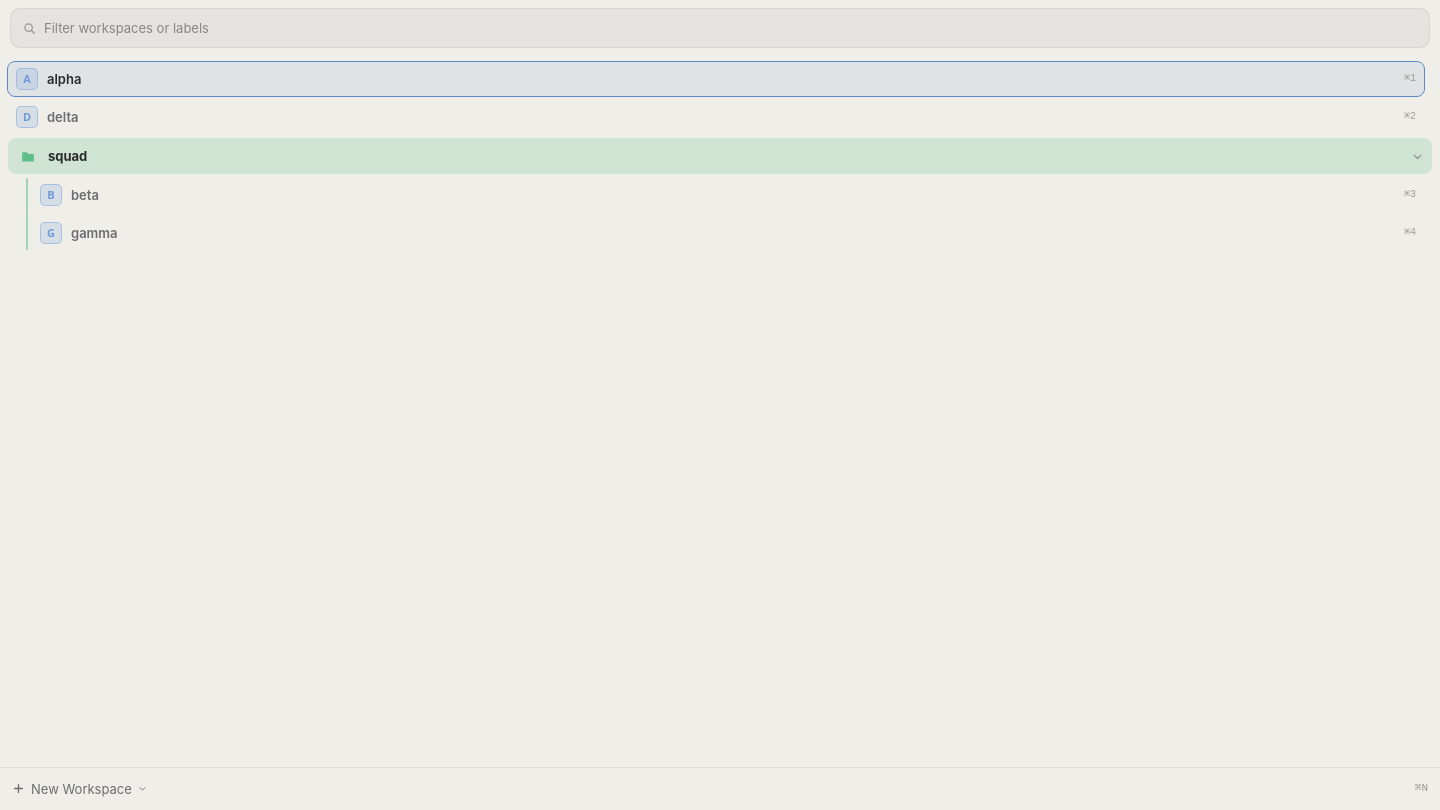
Test: menu shortcut hints › draws no hint on a row menu or a group menu
This screenshot has width=1440, height=810.
Right-click the option with test id "workspace-row" showing "A alpha ⌘1" at (64, 79), box [8,62,1424,96]
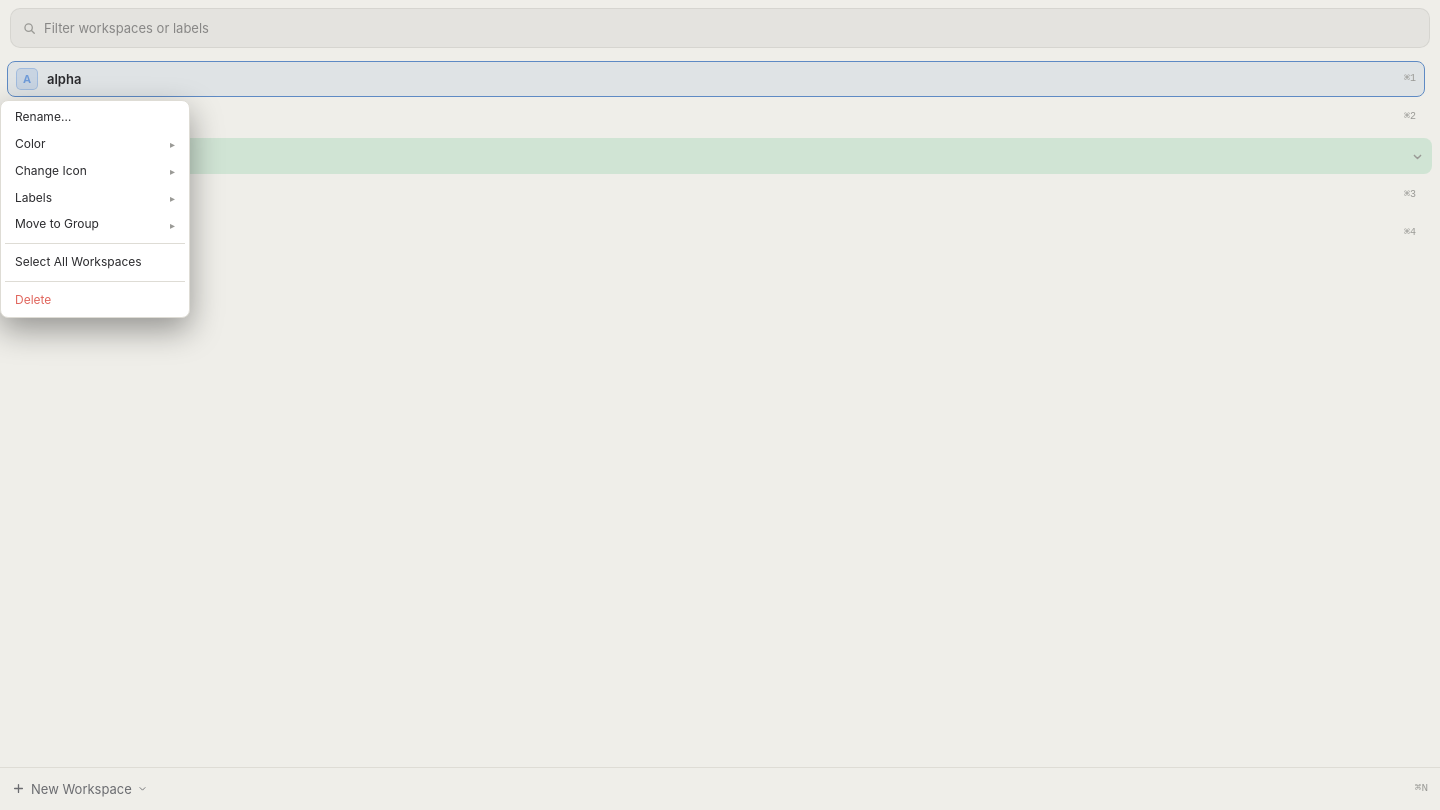
Now the menu item "Rename…" is shown, box [5,105,185,130]
Press Escape
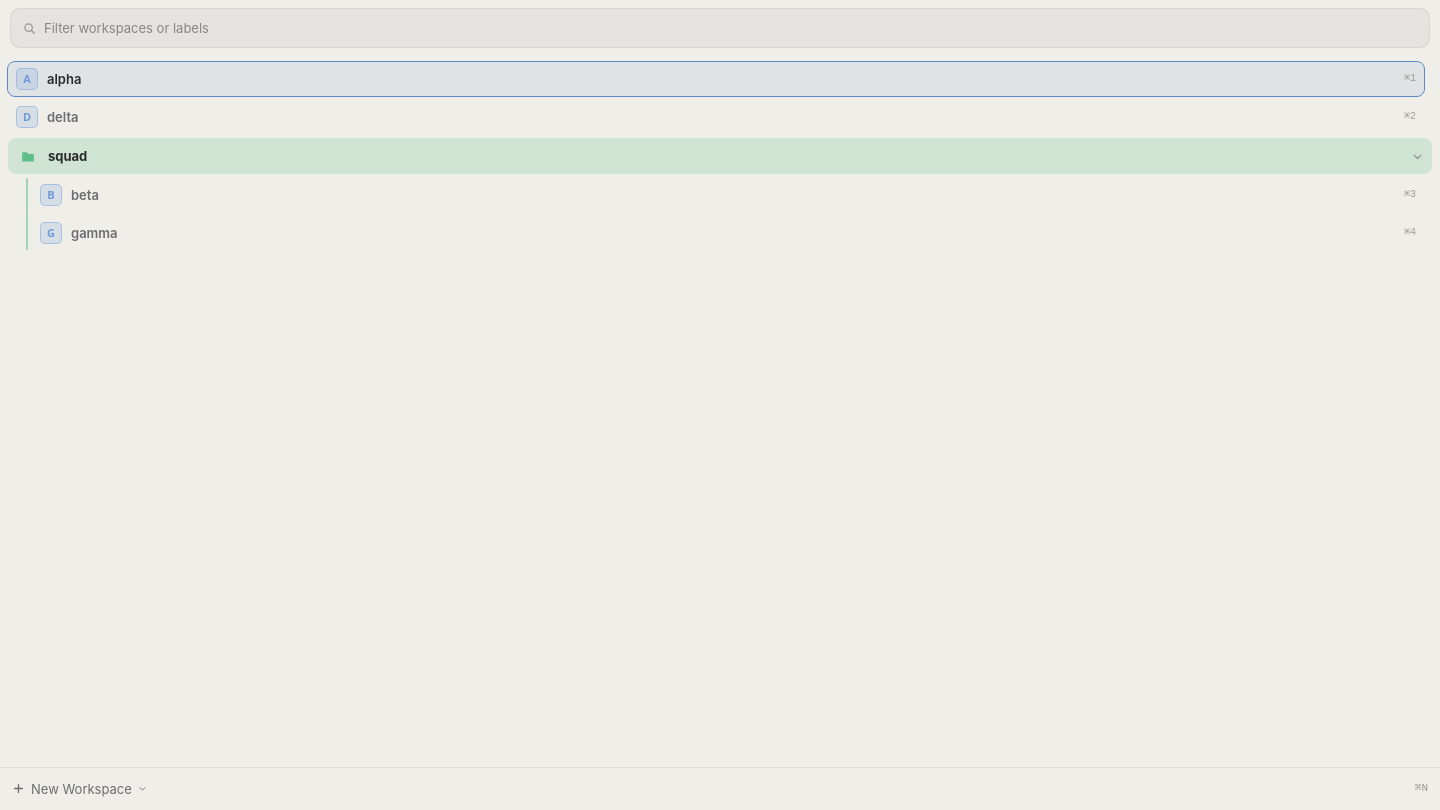
Right-click the element with test id "group-header" at (720, 156), box [8,138,1432,174]
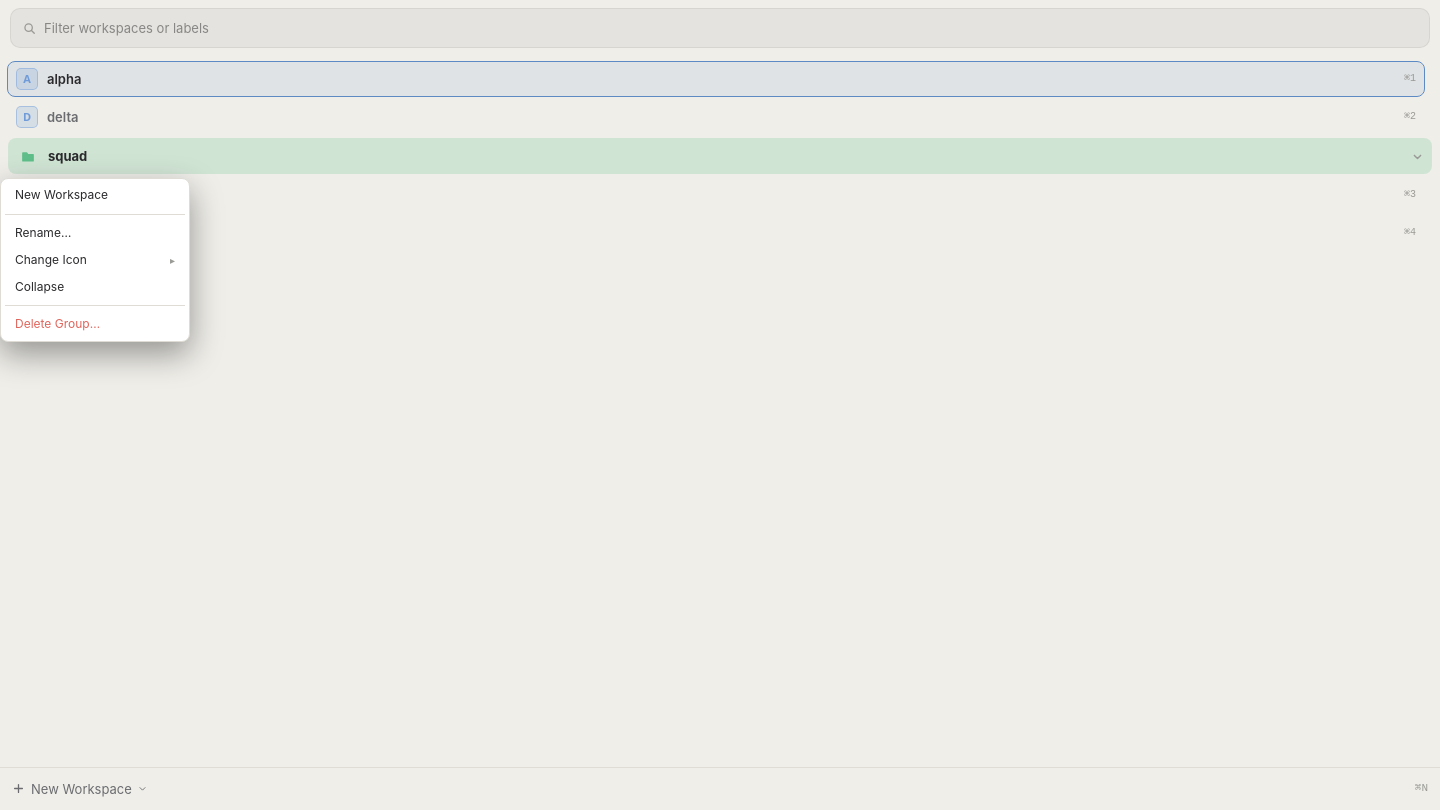
Now the menu item "New Workspace" is shown, box [5,183,185,208]
